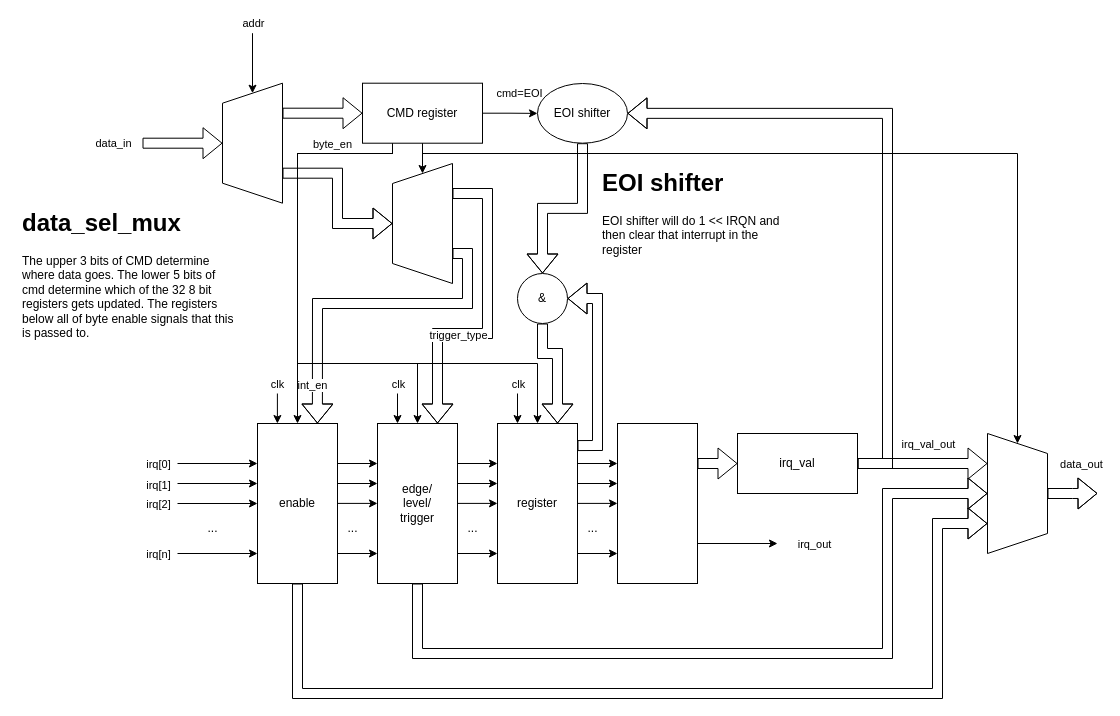
This 1120x716 diagram has some shape labels left out. The centre of each missing label's shape, as x and y in pixels:
"data_in mux" belongs at pixel 252 142.
"data_sel_mux" belongs at pixel 422 223.
"priority encoder" belongs at pixel 657 503.
